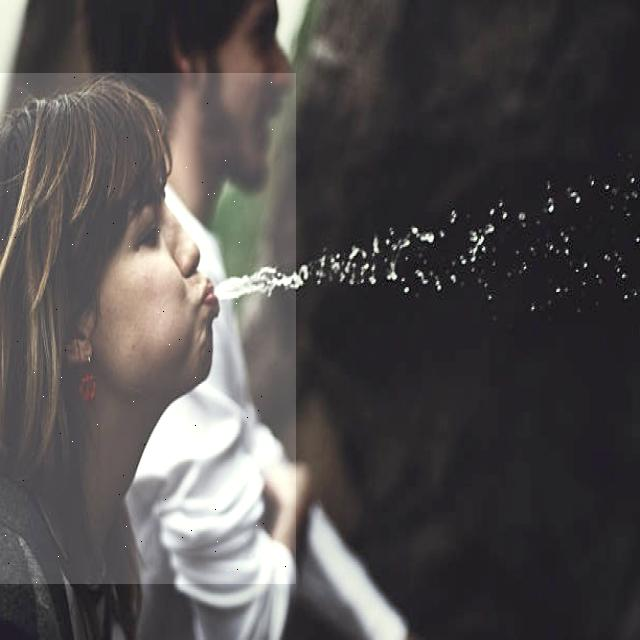Spitting: (0, 73, 296, 584)
